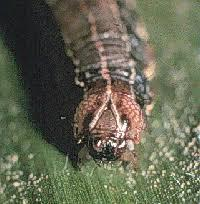fallarmy_worm: (36, 1, 164, 168)
